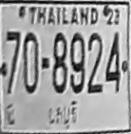0: (23, 32, 38, 94)
2: (88, 32, 102, 94)
4: (106, 32, 122, 93)
7: (7, 31, 21, 94)
8: (53, 32, 67, 94)
9: (69, 32, 84, 93)
CBI: (45, 101, 81, 131)
